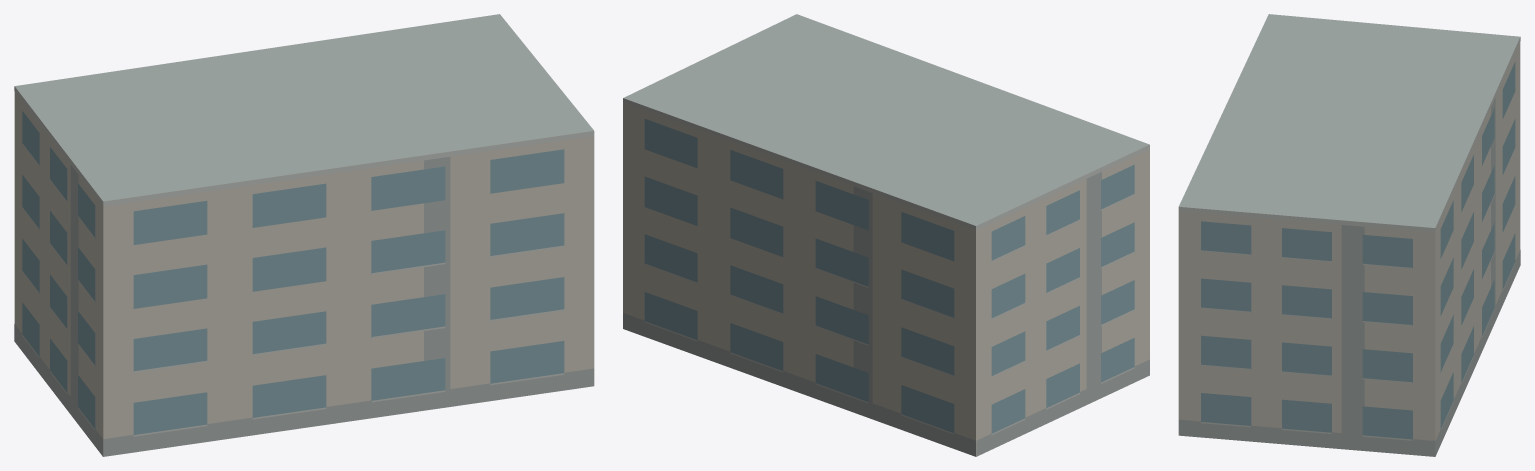
File: survey-upis-32975987.glb
The picture shows the model from 3 angles, left to right: view 1: azimuth 30°, elevation 25°; view 2: azimuth 150°, elevation 25°; view 3: azimuth 270°, elevation 25°; orthographic projection. The views are drawn at different scales.
Parts seen in each view (by area): view 1: survey-upis-32975987.tmp; view 2: survey-upis-32975987.tmp; view 3: survey-upis-32975987.tmp.
Boxes of the visible parts, box(x1,y1,x2,y2) form: survey-upis-32975987.tmp: box(14, 14, 594, 456); survey-upis-32975987.tmp: box(623, 14, 1149, 456); survey-upis-32975987.tmp: box(1178, 14, 1520, 456).
Bounding box in the file's own units: 24.5 × 12.2 × 16.53.
